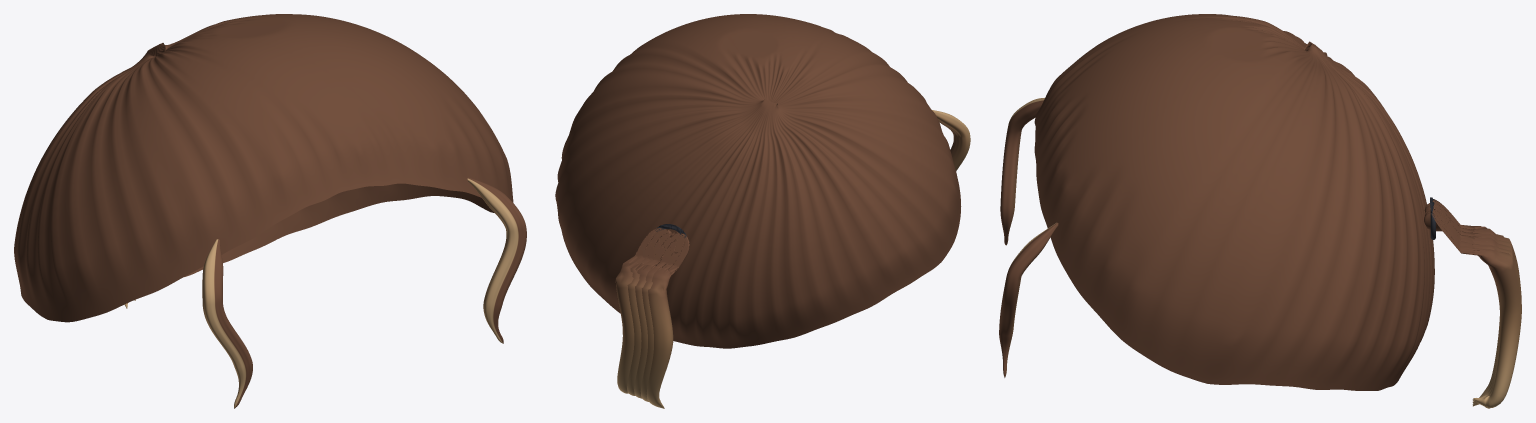
The model's file is Ombre-010e6871b0ff253-hair.glb.
The picture shows the model from 3 angles, left to right: view 1: azimuth 30°, elevation 25°; view 2: azimuth 150°, elevation 25°; view 3: azimuth 270°, elevation 25°; orthographic projection. The views are drawn at different scales.
Visible parts, largest first — view 1: 226 hair / Hair / crisp pulled roots220.002, 226 hair / Hair / sculpted front locks222.002; view 2: 226 hair / Hair / crisp pulled roots220.002, 226 hair / Hair / chestnut226.001, 226 hair / Hair / sculpted front locks222.002; view 3: 226 hair / Hair / crisp pulled roots220.002, 226 hair / Hair / chestnut226.001, 226 hair / Hair / sculpted front locks222.002.
Part boxes in pixels (x1,y1,x2,y2): 226 hair / Hair / crisp pulled roots220.002: [14, 14, 513, 322]; 226 hair / Hair / sculpted front locks222.002: [202, 177, 526, 408]; 226 hair / Hair / crisp pulled roots220.002: [555, 14, 961, 348]; 226 hair / Hair / chestnut226.001: [615, 228, 689, 408]; 226 hair / Hair / sculpted front locks222.002: [932, 110, 970, 171]; 226 hair / Hair / crisp pulled roots220.002: [1034, 14, 1434, 390]; 226 hair / Hair / chestnut226.001: [1424, 199, 1521, 408]; 226 hair / Hair / sculpted front locks222.002: [999, 98, 1058, 377].
Size of the model in its own units: 0.9675 by 0.7594 by 0.9676.
Materials: 4 (3 with a texture image).
